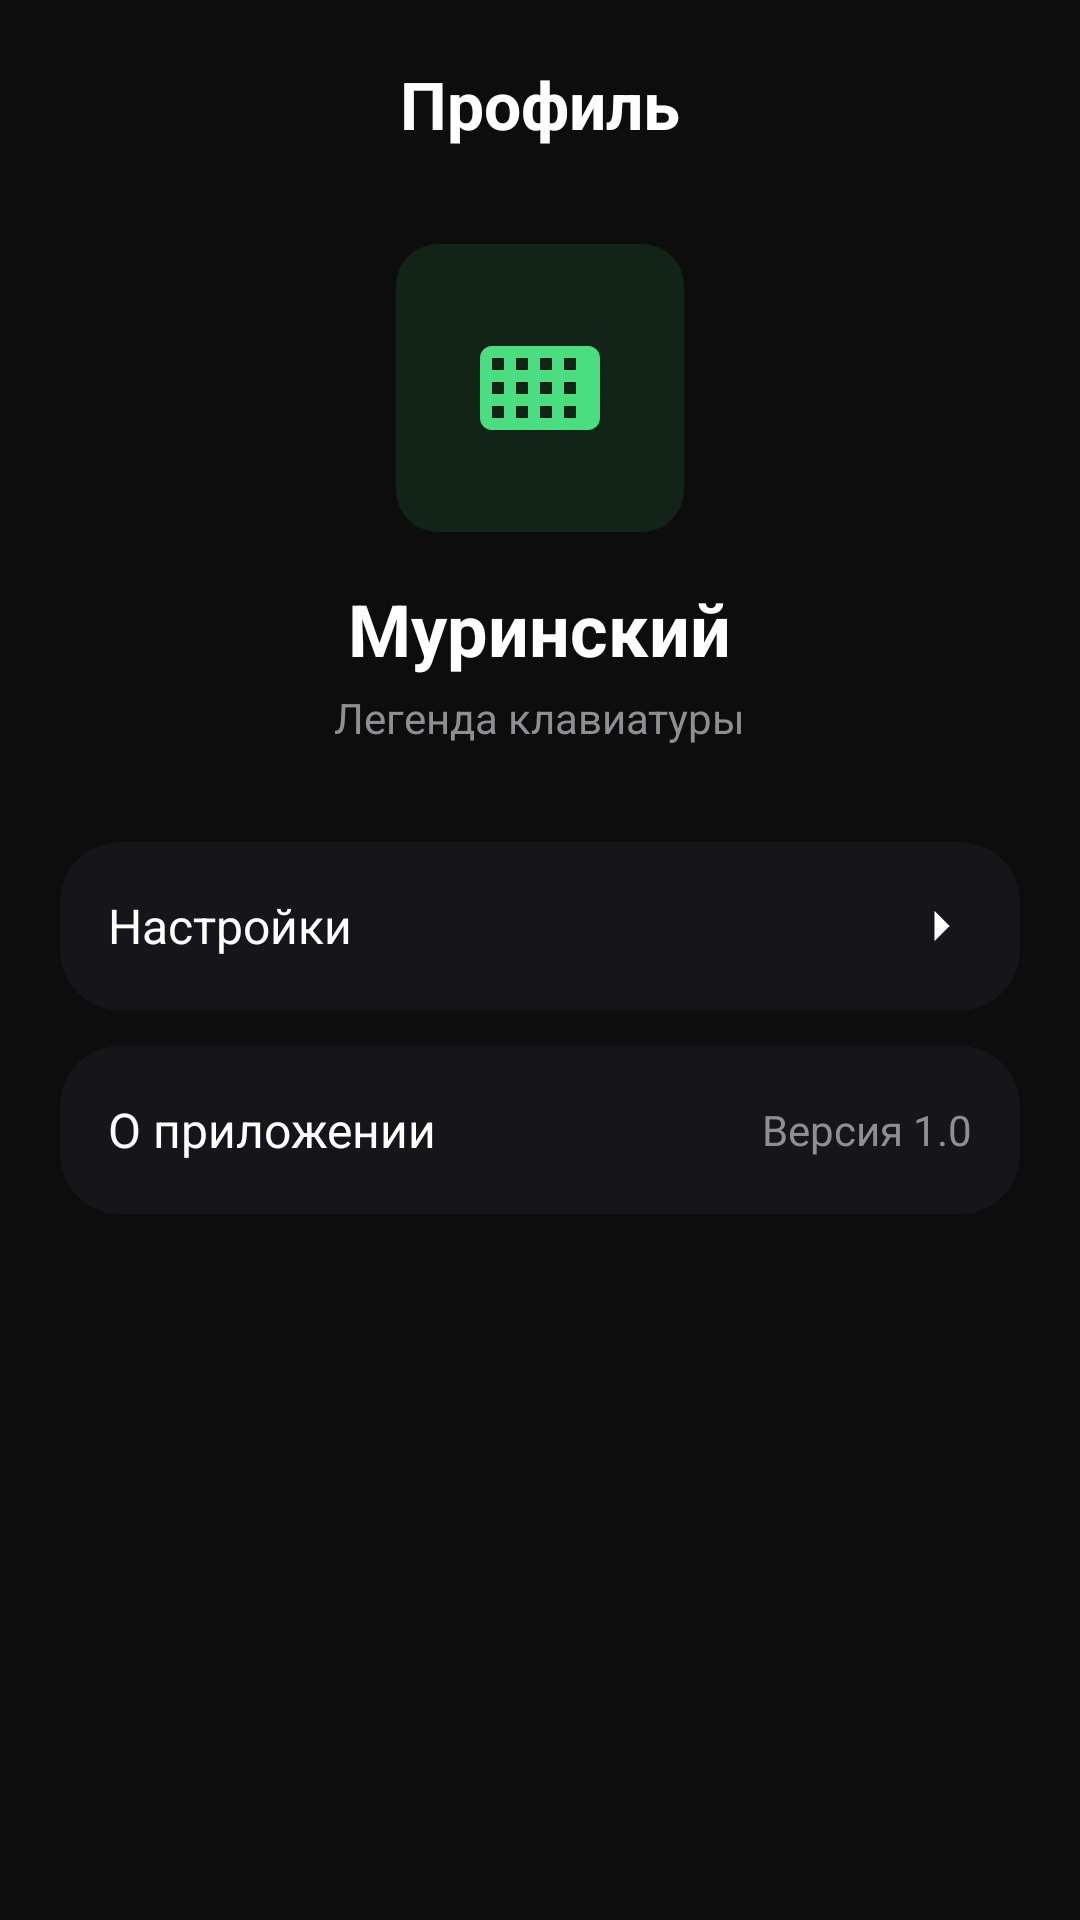

Where to tap for icons on this 1080w x 1920h app screen, as (x=x, y=y):
open: (x=942, y=926)
